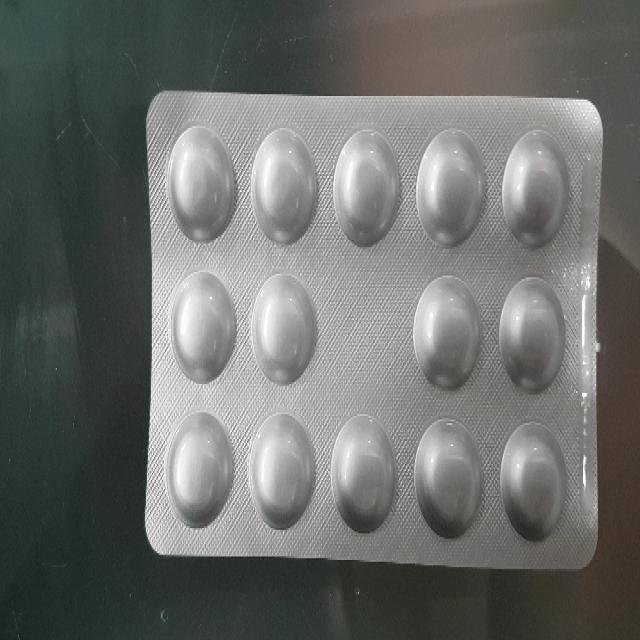Pill: (411, 408, 483, 543), (243, 405, 317, 536), (495, 125, 571, 252), (329, 406, 398, 540), (498, 414, 568, 546), (246, 266, 317, 391), (167, 264, 235, 394), (412, 126, 485, 247), (163, 127, 237, 246), (247, 128, 318, 251), (494, 274, 566, 394), (331, 125, 399, 252), (164, 407, 232, 532), (412, 271, 480, 395)
